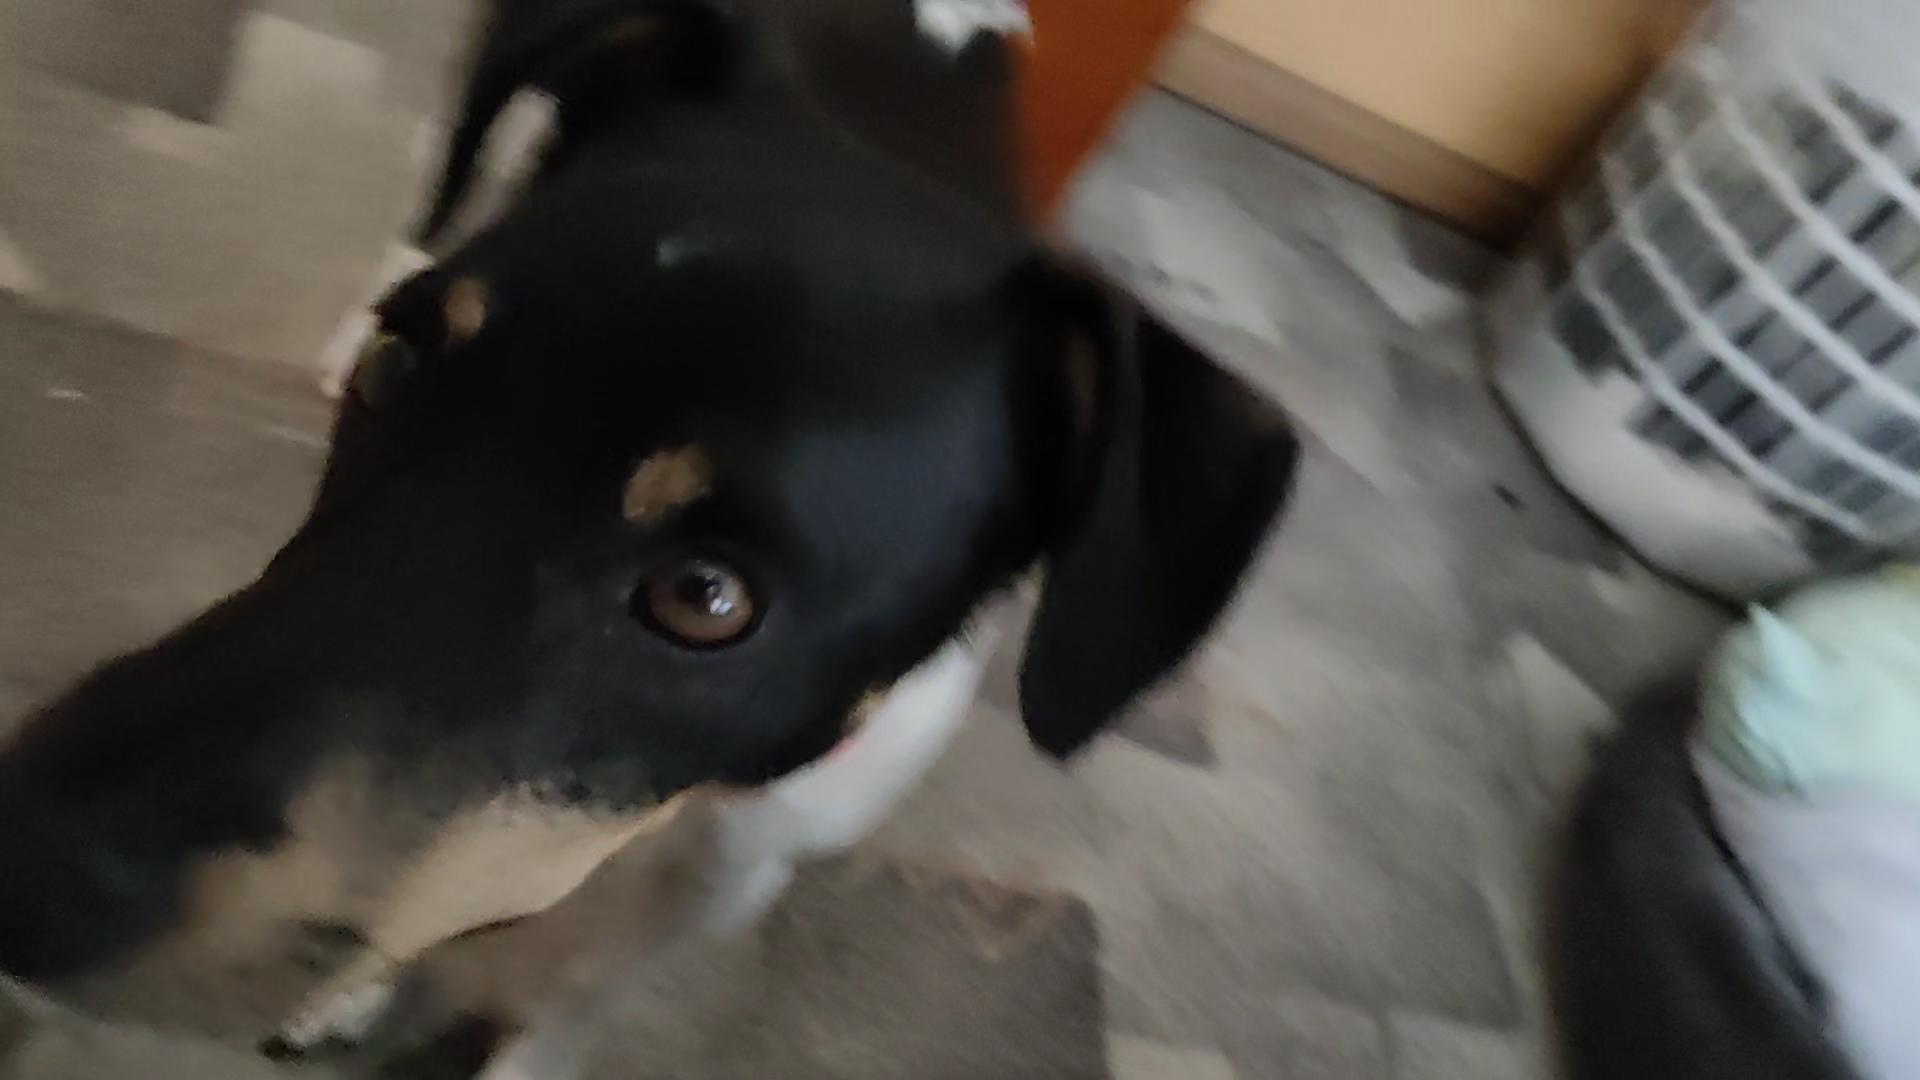Dog: (0, 0, 1315, 1080)
